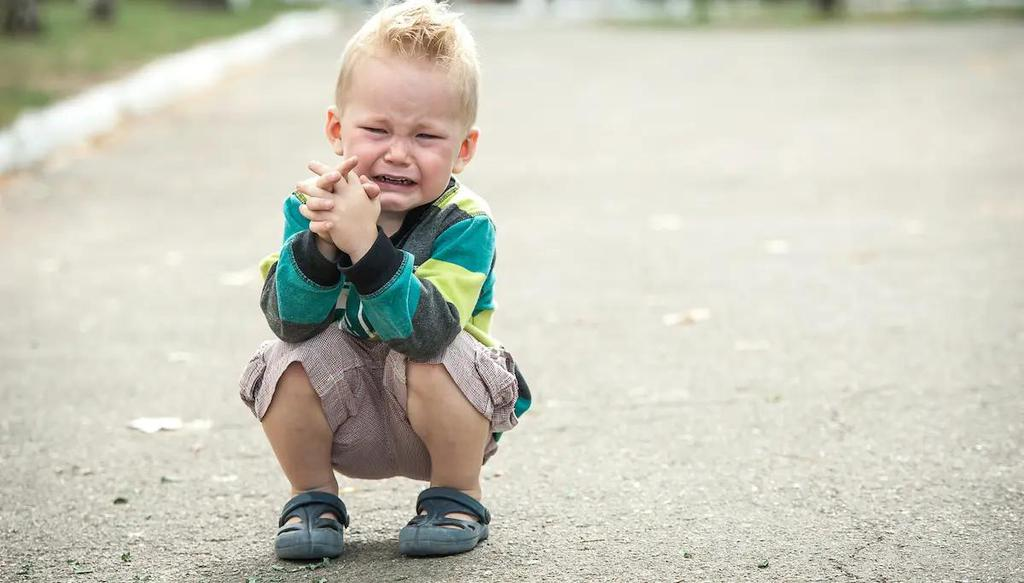child: (190, 1, 541, 566)
